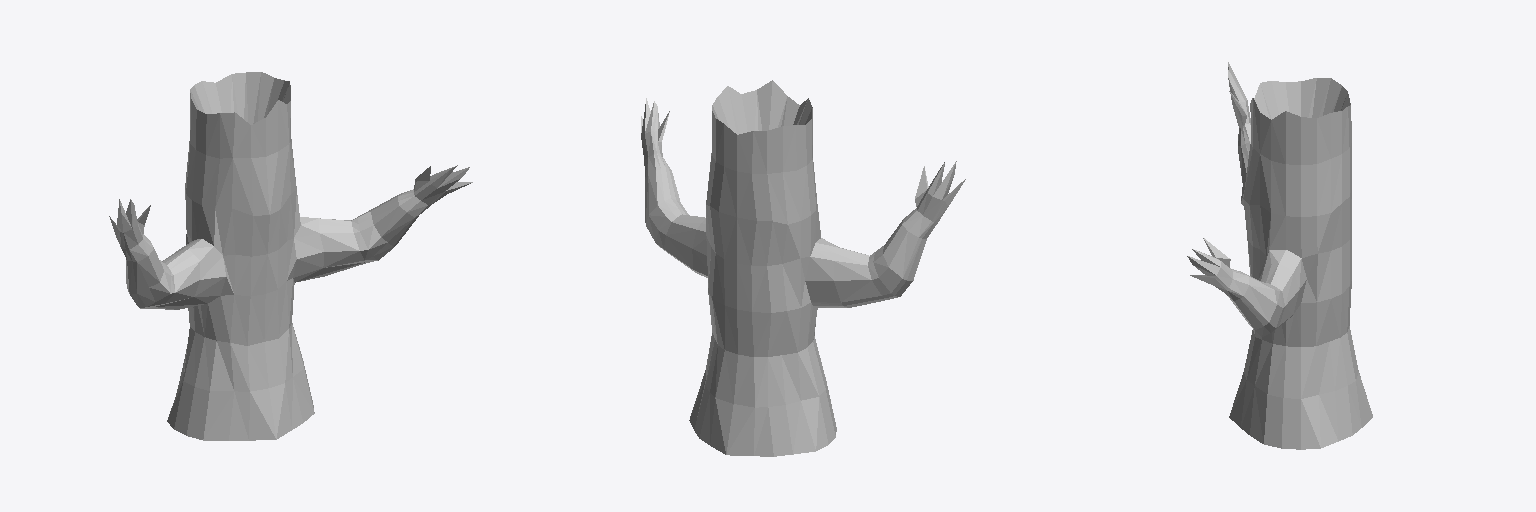
File: Tree.obj
3 views of the same model, side by side, from view 1: azimuth 30°, elevation 25°; view 2: azimuth 150°, elevation 25°; view 3: azimuth 270°, elevation 25° (orthographic).
Visible parts, largest first — view 1: tree; view 2: tree; view 3: tree.
Part boxes in pixels (x1,y1,x2,y2): tree: (109,72,472,440); tree: (641,80,965,456); tree: (1187,62,1372,449).
Size of the model in its own units: 7.88 by 7.13 by 3.68.